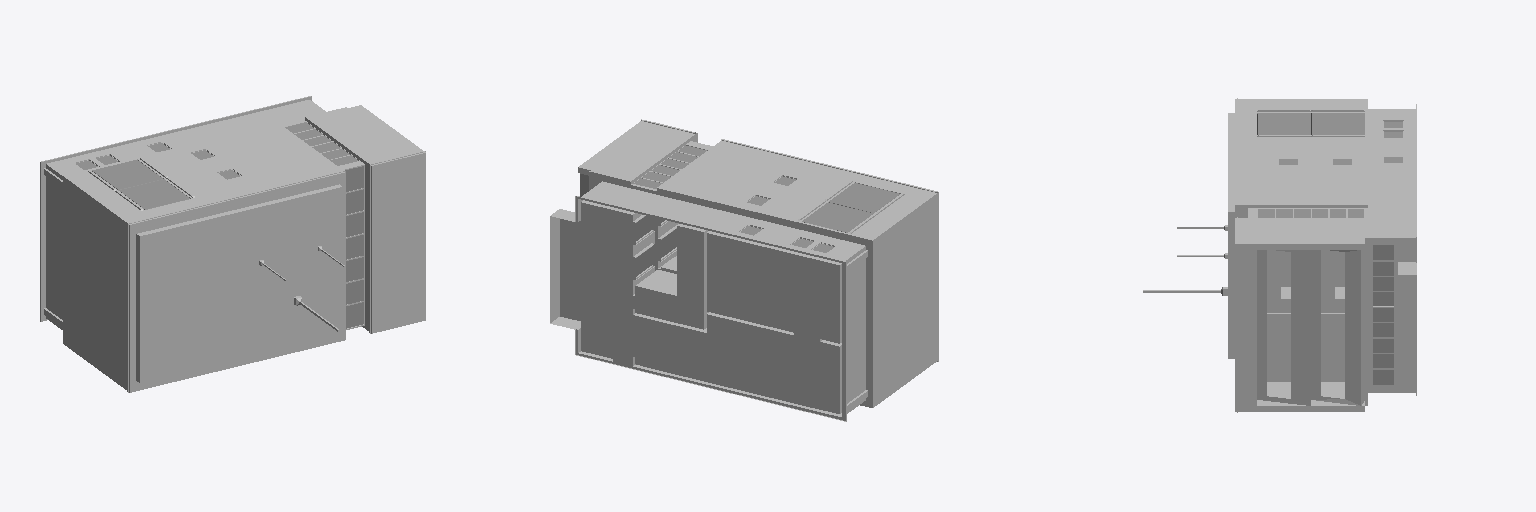
The model's file is Building1.obj.
3 views of the same model, side by side, from view 1: azimuth 30°, elevation 25°; view 2: azimuth 150°, elevation 25°; view 3: azimuth 270°, elevation 25° (orthographic).
Parts seen in each view (by area): view 1: Residential_Buildings_001_Cube.001; view 2: Residential_Buildings_001_Cube.001; view 3: Residential_Buildings_001_Cube.001.
Part boxes in pixels (left/top/right/bottom): Residential_Buildings_001_Cube.001: left=40, top=96, right=425, bottom=392; Residential_Buildings_001_Cube.001: left=550, top=119, right=938, bottom=421; Residential_Buildings_001_Cube.001: left=1143, top=98, right=1416, bottom=412.
Bounding box in the file's own units: 23.1 × 12.59 × 18.39.